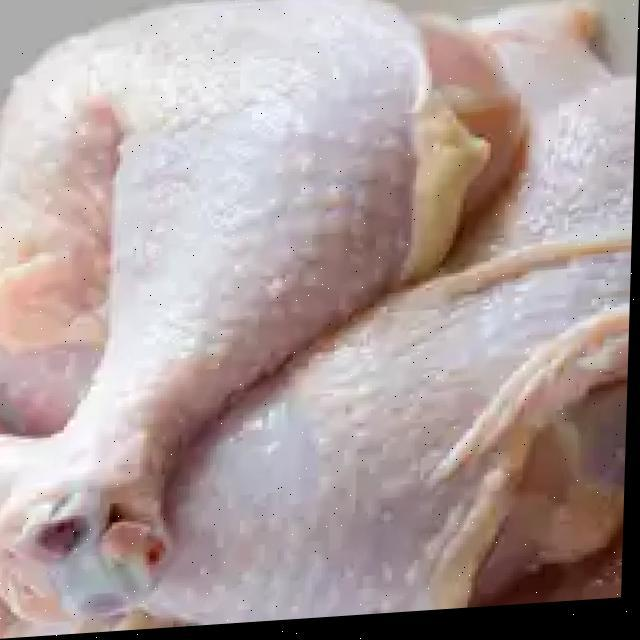leg: (0, 0, 477, 474)
